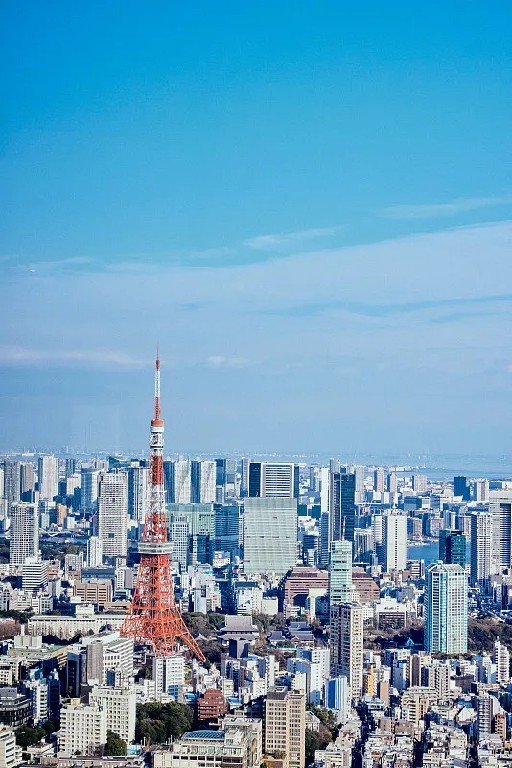Tokyo: (119, 338, 207, 665)
